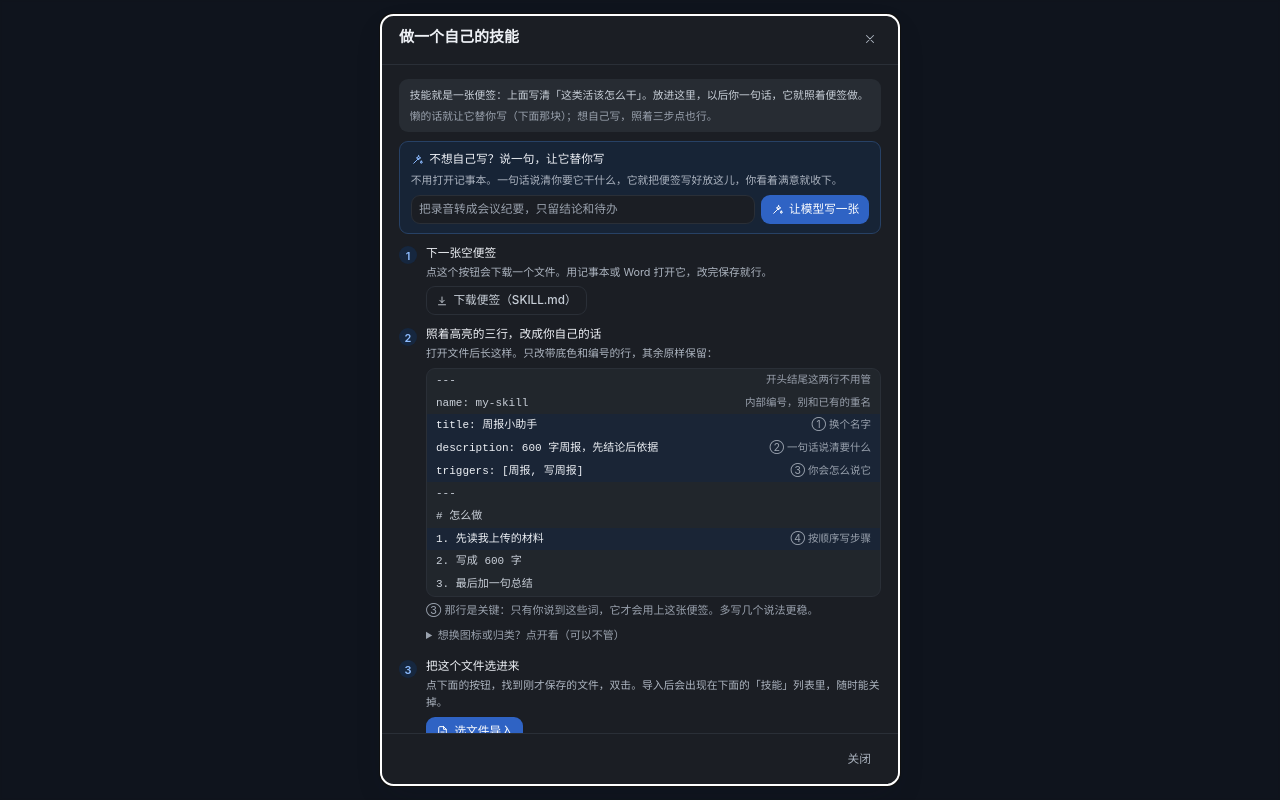
Test case: SkillImportGuide › 接了模型就有「说一句就写」：先给预览，点「就用这张」才导入
The width and height of the screenshot is (1280, 800).
Later steps or results of the test are not shown.
Type "整理会议纪要" into the field named "一句话说清你要什么". click: coordinates (583, 209)
box: 411,195 -> 755,224
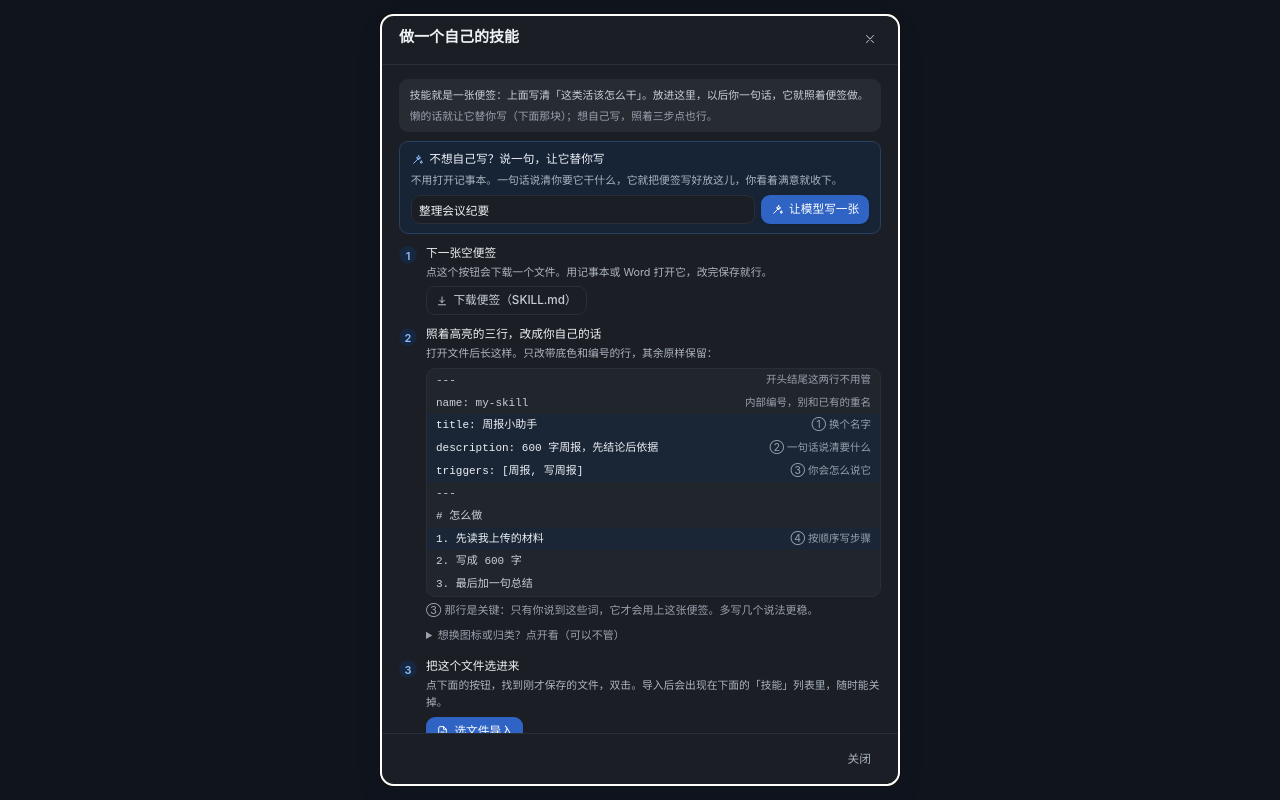
Click the button "让模型写一张". click: coordinates (815, 209)
box: 761,195 -> 869,224
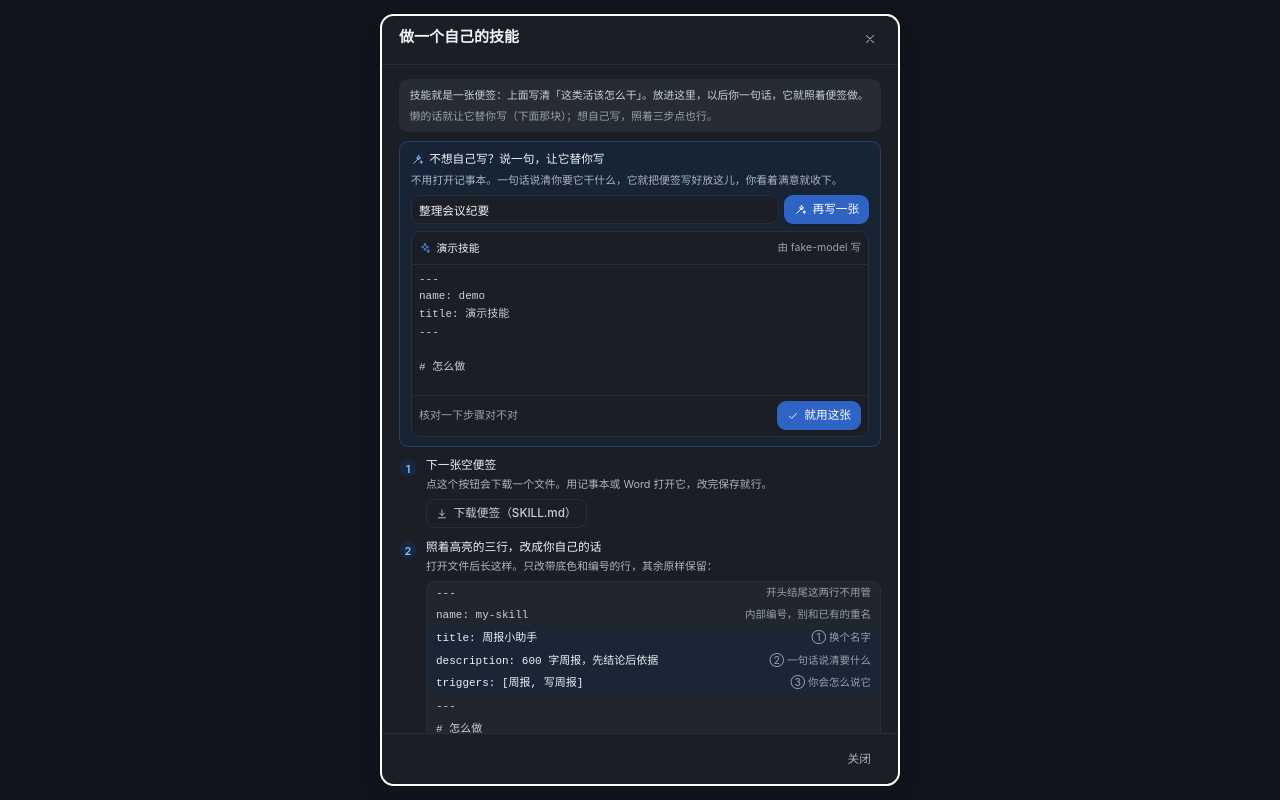
Now the text "演示技能" is shown, box 436,240 -> 480,256
Now the text "由 fake-model 写" is shown, box 777,237 -> 861,259
